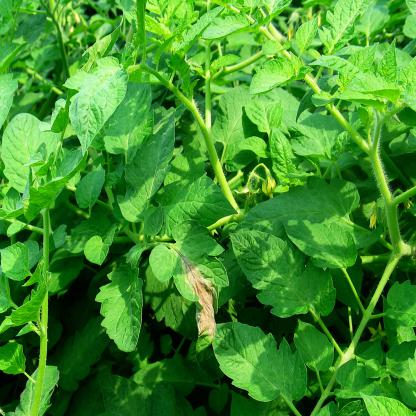tomato leaf: (229, 225, 335, 333), (116, 105, 183, 237), (210, 327, 310, 406), (94, 250, 145, 357), (102, 69, 152, 178), (288, 208, 354, 279), (4, 109, 55, 193), (291, 317, 336, 375), (245, 62, 303, 93)
tomato leaf late blight: (153, 233, 228, 327)
